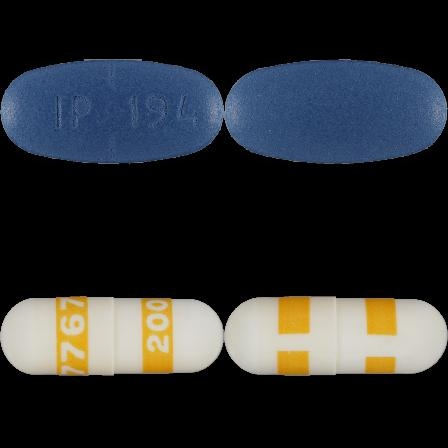68387-545: (0, 0, 224, 224)
